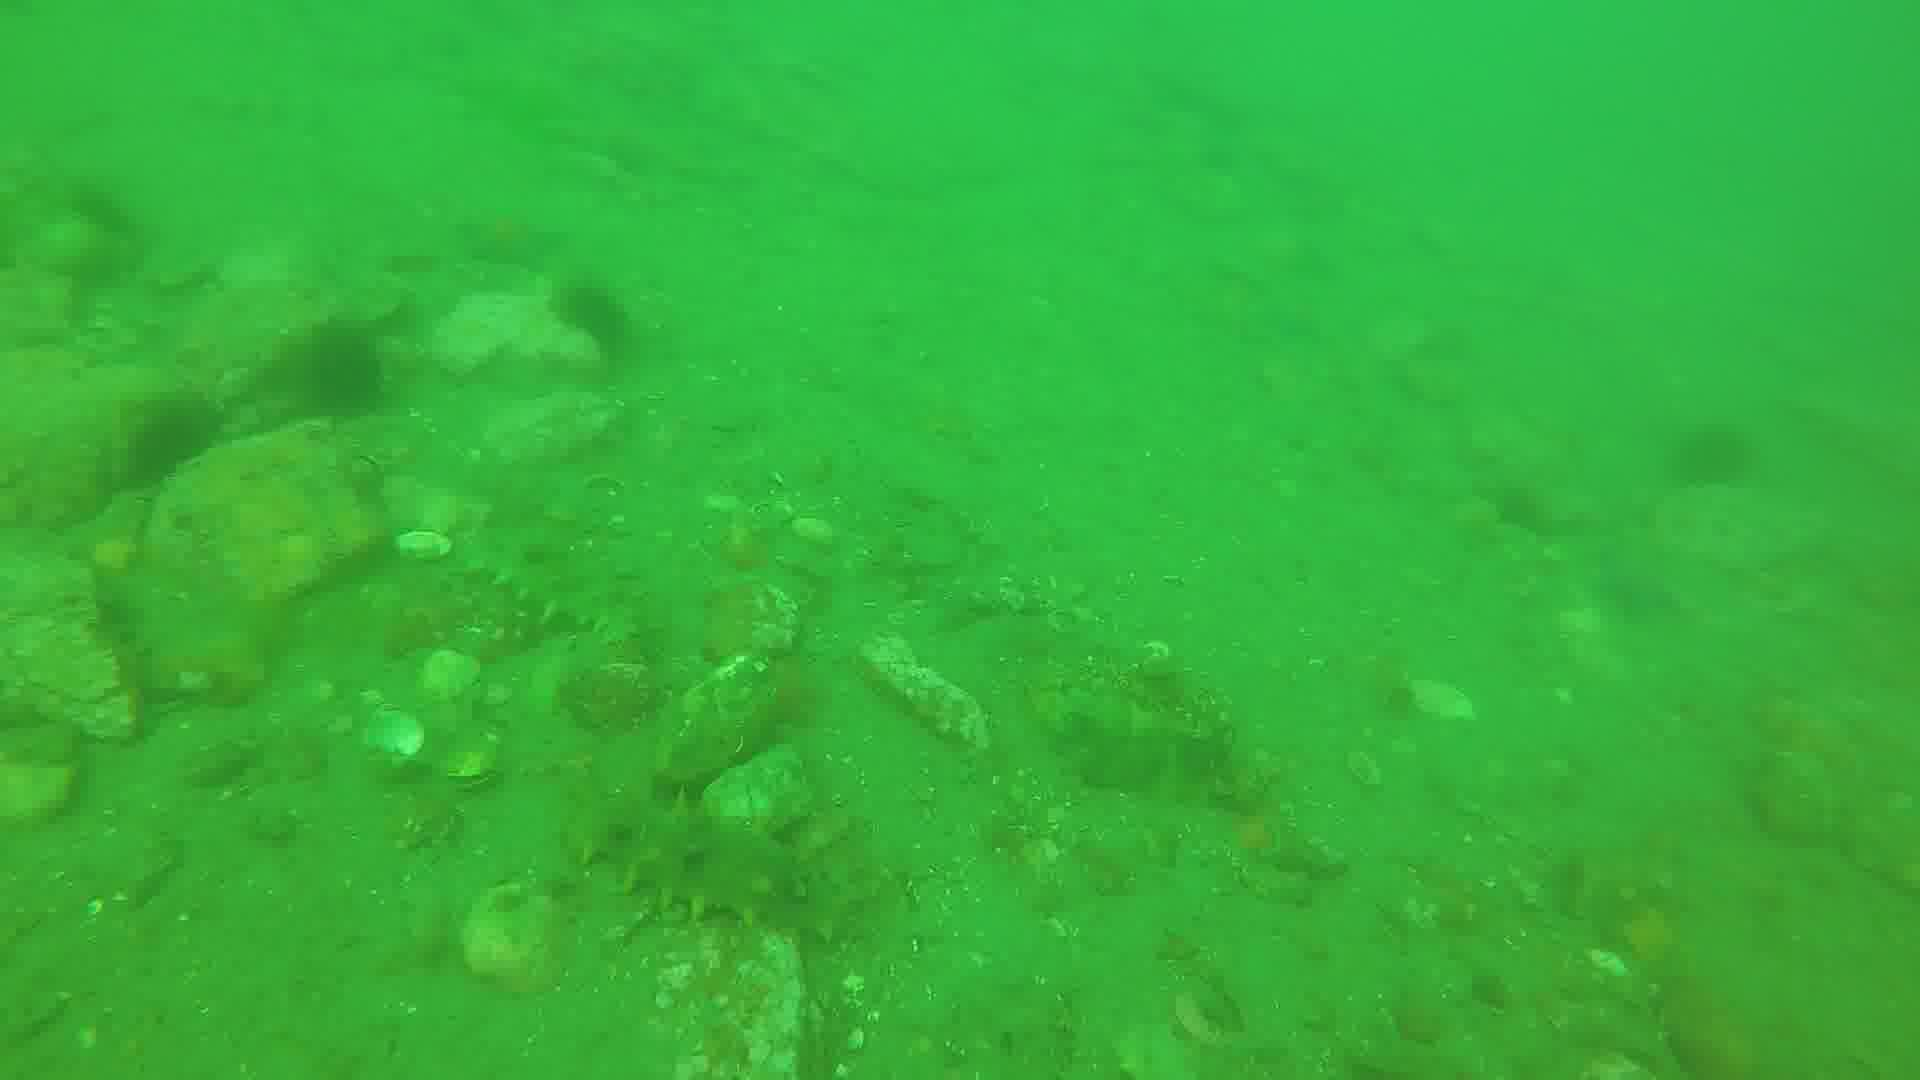echinus: (299, 324, 389, 425), (1665, 419, 1742, 487)
holothurian: (578, 790, 852, 947), (446, 509, 641, 636)
starfish: (1588, 520, 1695, 625)
